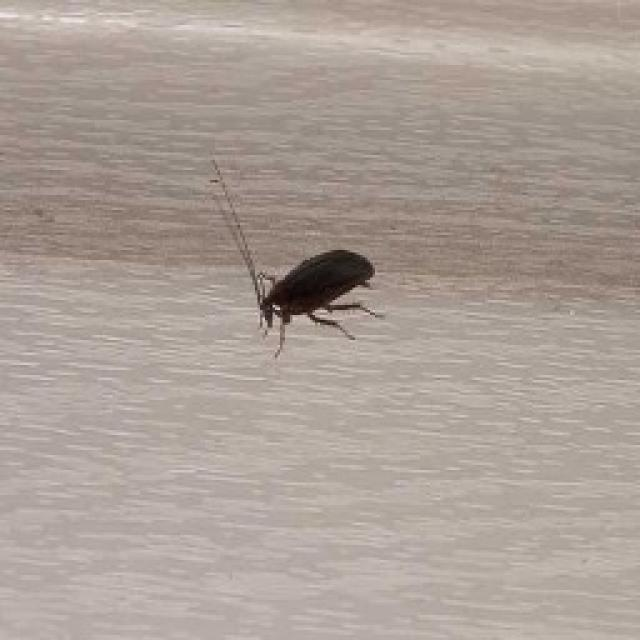cockroach: (260, 246, 378, 320)
